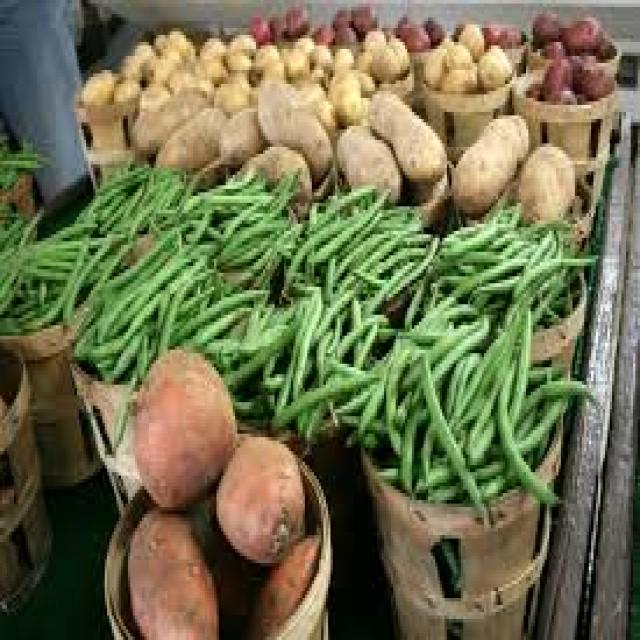organic waste: (352, 290, 586, 507), (403, 203, 598, 329), (221, 294, 379, 430), (72, 234, 196, 378), (281, 182, 433, 297), (130, 346, 233, 500), (123, 504, 219, 636), (214, 430, 305, 563), (156, 168, 300, 231), (9, 217, 91, 322), (168, 262, 263, 350), (256, 77, 330, 182), (67, 164, 177, 234), (247, 528, 319, 630), (35, 231, 114, 322), (368, 91, 444, 178), (268, 371, 374, 423), (451, 129, 512, 210), (228, 143, 310, 203), (133, 84, 205, 150), (335, 123, 396, 200), (516, 140, 572, 220), (0, 206, 37, 322), (200, 220, 300, 262), (149, 105, 214, 164), (214, 105, 263, 157), (482, 112, 526, 161), (570, 49, 612, 94), (326, 66, 358, 119), (474, 42, 510, 84), (154, 21, 193, 59), (140, 49, 183, 80), (561, 14, 598, 49), (2, 136, 46, 164), (77, 63, 112, 98), (394, 14, 428, 49), (540, 56, 570, 94), (424, 35, 449, 80), (370, 38, 398, 77), (530, 7, 561, 42), (456, 21, 482, 59), (349, 0, 377, 35), (0, 126, 14, 196), (212, 80, 246, 108), (440, 63, 475, 87), (283, 0, 309, 31), (251, 38, 275, 70), (387, 35, 408, 70), (114, 49, 140, 77), (168, 63, 210, 80), (112, 73, 140, 98), (193, 52, 224, 74), (421, 14, 442, 45), (244, 11, 266, 38), (268, 7, 286, 38), (442, 39, 468, 60), (282, 49, 307, 70), (221, 46, 247, 66), (310, 38, 330, 63), (286, 31, 310, 49), (330, 24, 354, 42), (258, 56, 282, 73), (537, 35, 561, 52), (354, 45, 370, 70), (312, 17, 328, 42), (128, 35, 147, 56), (198, 35, 221, 52), (226, 32, 251, 46), (354, 70, 370, 91), (482, 21, 498, 42), (333, 46, 349, 66), (552, 84, 570, 101), (503, 24, 519, 42), (358, 94, 368, 122), (363, 24, 382, 38), (333, 7, 349, 21), (310, 63, 324, 77), (526, 80, 540, 94), (247, 77, 256, 98)
